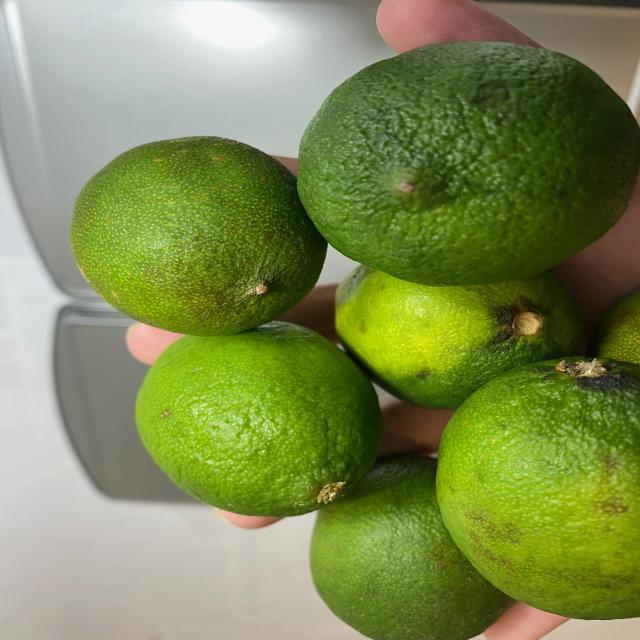lemon: (60, 40, 627, 634)
